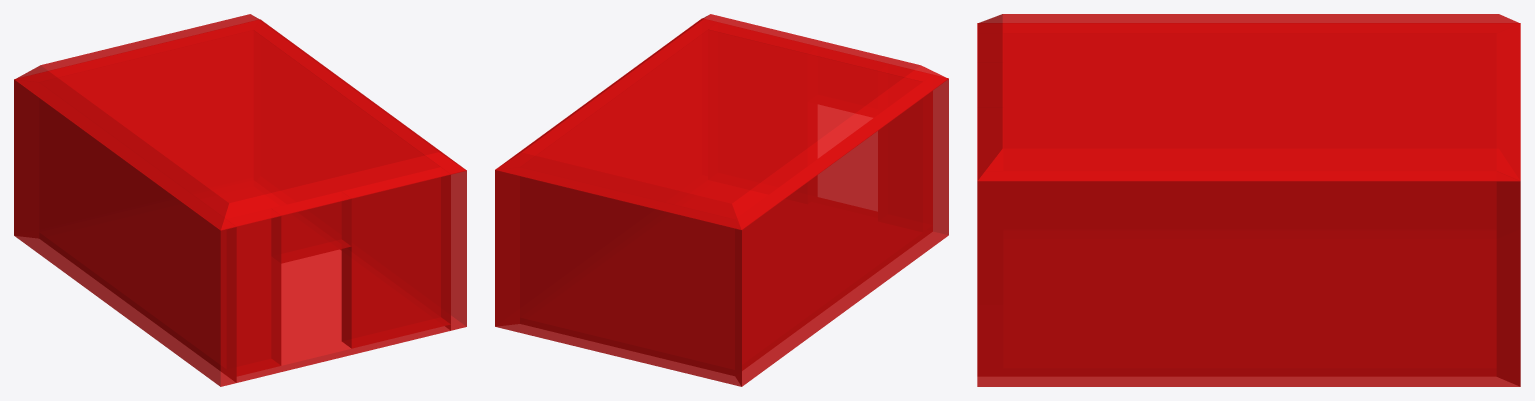
The model's file is SM_Bld_Bunker_03_Collision.fbx.
3 renders of one model, left to right at view 1: azimuth 30°, elevation 25°; view 2: azimuth 150°, elevation 25°; view 3: azimuth 270°, elevation 25°, orthographic. The views are drawn at different scales.
Parts seen in each view (by area): view 1: SM_Bld_Bunker_03_Collision; view 2: SM_Bld_Bunker_03_Collision; view 3: SM_Bld_Bunker_03_Collision.
Boxes of the visible parts, <box> form: SM_Bld_Bunker_03_Collision: <box>14,14,466,386</box>; SM_Bld_Bunker_03_Collision: <box>495,14,948,386</box>; SM_Bld_Bunker_03_Collision: <box>977,14,1520,386</box>.
Size of the model in its own units: 501 by 335 by 729.
